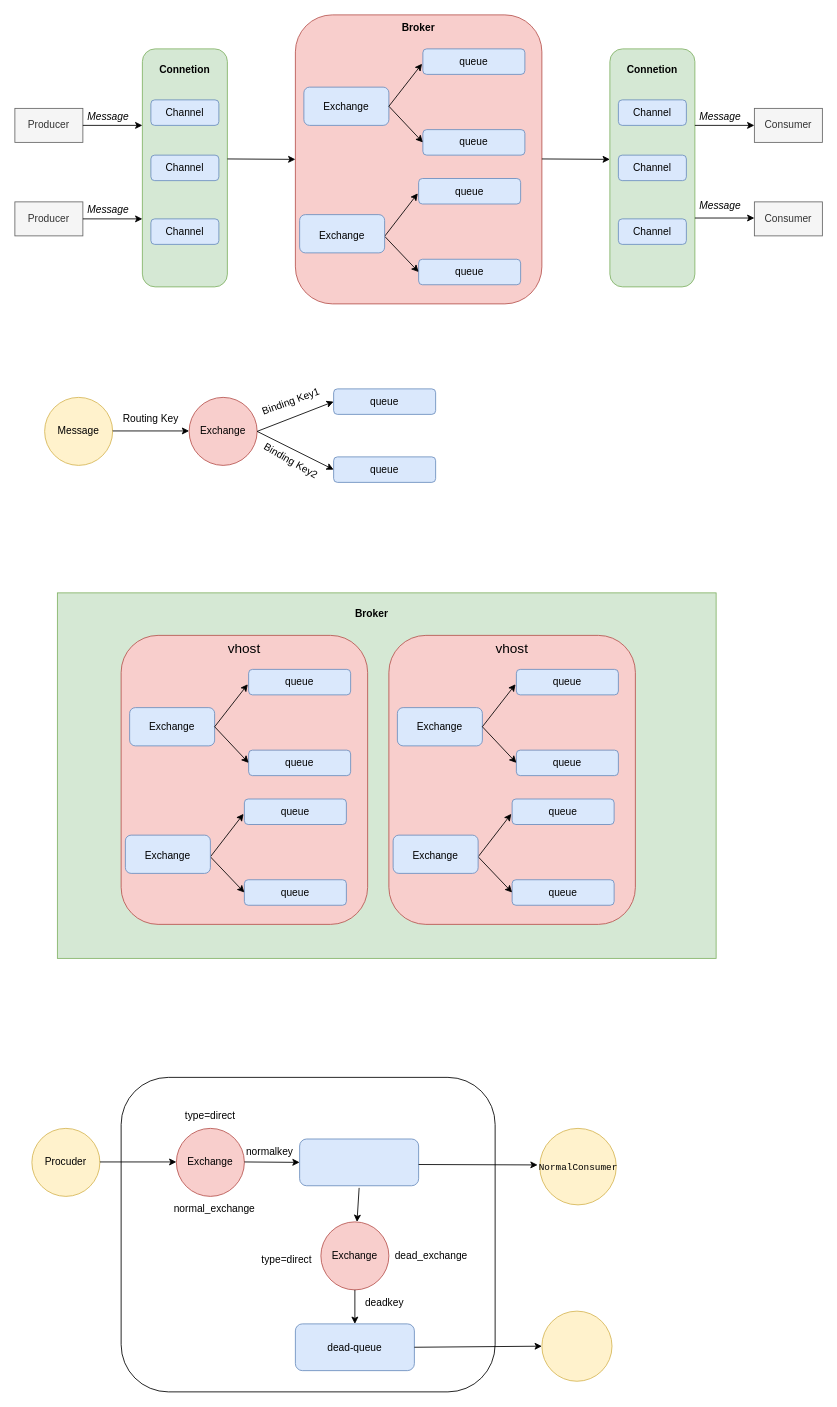
The diagram is 837 pixels wide and 1407 high, and some of its shapes have lost their labels. Each missing label, with the box of its shape:
DeadConsumer: (541, 1310, 612, 1381)
normal-queue: (299, 1138, 419, 1186)
